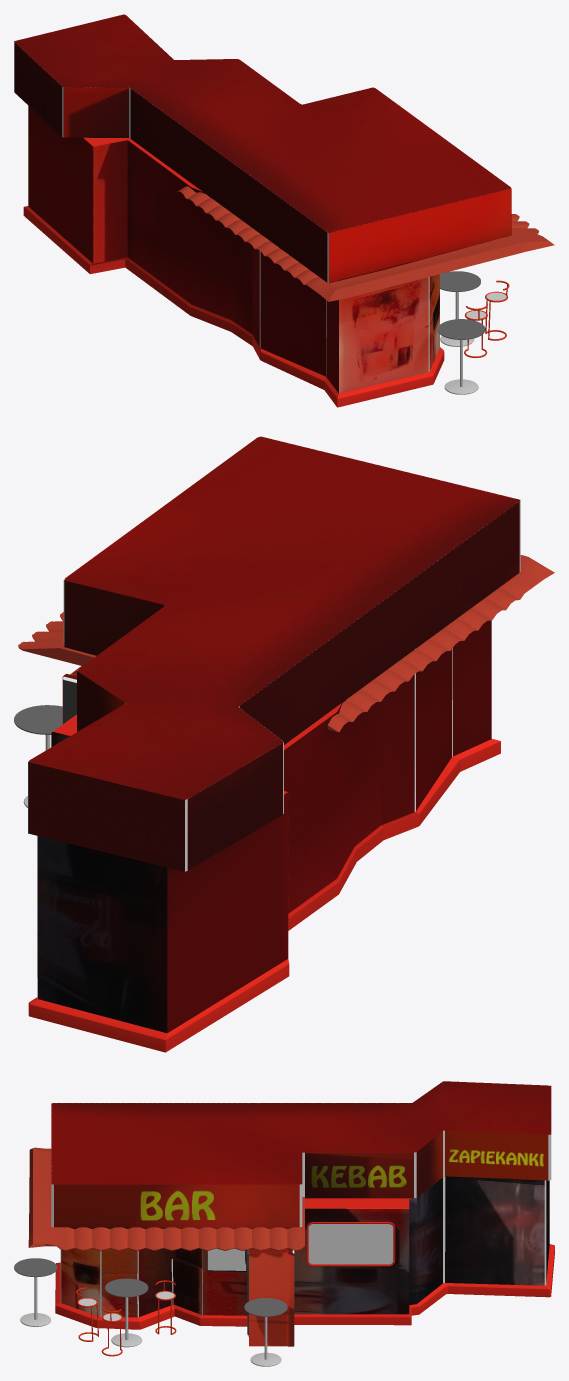
Rendered from bar_lussi.fbx.
The picture shows the model from 3 angles, top to bottom: view 1: azimuth 30°, elevation 25°; view 2: azimuth 150°, elevation 25°; view 3: azimuth 270°, elevation 25°; orthographic projection. The views are drawn at different scales.
Visible parts, largest first — view 1: Cube.002, Cube, Plane, Cylinder.011, Cylinder.008; view 2: Cube.002, Cube, Plane, Cylinder.005; view 3: Cube.002, Cube, Plane, Cube.001, Cube.003, Cube.007, Cylinder.008, Cylinder.011, Cylinder.005.
Part boxes in pixels (x1,y1,x2,y2): Cube.002: (14,14,511,283); Cube: (23,106,444,407); Plane: (177,186,554,301); Cylinder.011: (437,319,485,339); Cylinder.008: (440,271,480,291); Cube.002: (28,436,520,871); Cube: (28,620,500,1052); Plane: (18,555,554,732); Cylinder.005: (14,705,62,734); Cube.002: (51,1081,551,1228); Cube: (55,1176,554,1329); Plane: (28,1147,304,1250); Cube.001: (245,1248,294,1346); Cube.003: (308,1224,393,1263); Cube.007: (207,1248,246,1270); Cylinder.008: (105,1278,148,1297); Cylinder.011: (14,1258,57,1277); Cylinder.005: (244,1298,287,1316).
Size of the model in its own units: 1372 by 826 by 2489.
